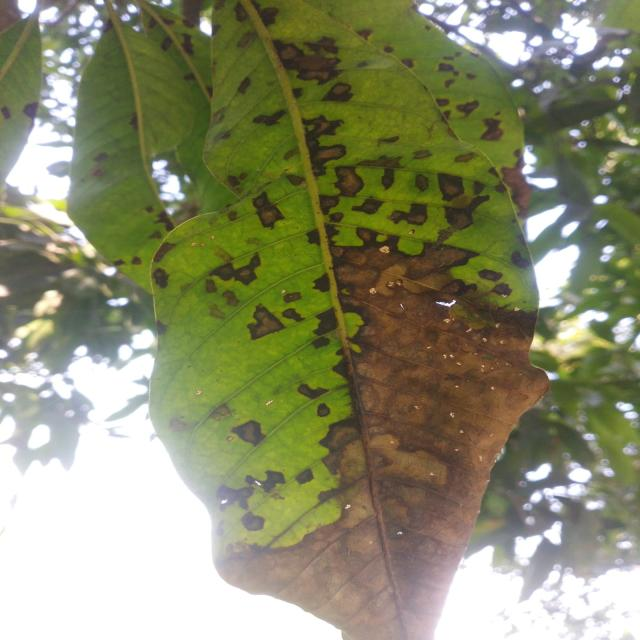Anthracnose: (211, 214, 568, 640), (309, 139, 460, 226), (281, 34, 356, 95), (247, 298, 297, 344), (214, 251, 264, 288)
